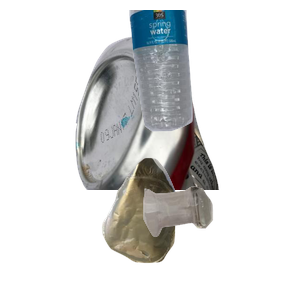glass: (141, 184, 300, 300)
metal: (73, 34, 285, 214)
plastic: (127, 10, 300, 134)
trash: (99, 155, 268, 300)
